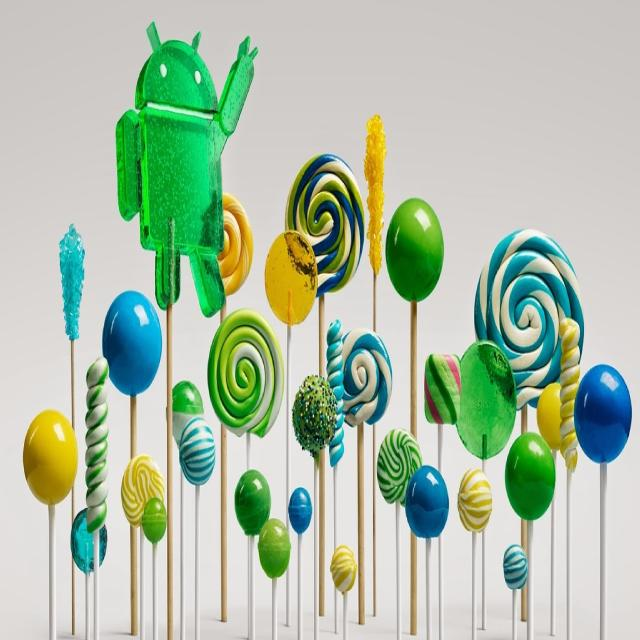Ball: (100, 287, 163, 402), (386, 194, 448, 305), (572, 359, 636, 464), (22, 406, 80, 512), (504, 430, 560, 526), (291, 371, 339, 470), (404, 462, 452, 542), (175, 416, 217, 491), (68, 506, 110, 573), (234, 466, 273, 538), (255, 516, 294, 586), (456, 468, 495, 536), (534, 383, 568, 455), (328, 540, 360, 598), (286, 485, 314, 540), (140, 496, 170, 546), (502, 543, 530, 595), (168, 376, 204, 414)
